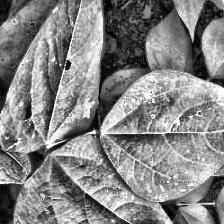Bean Rust: (102, 68, 224, 197), (0, 0, 109, 142), (15, 136, 188, 224)
